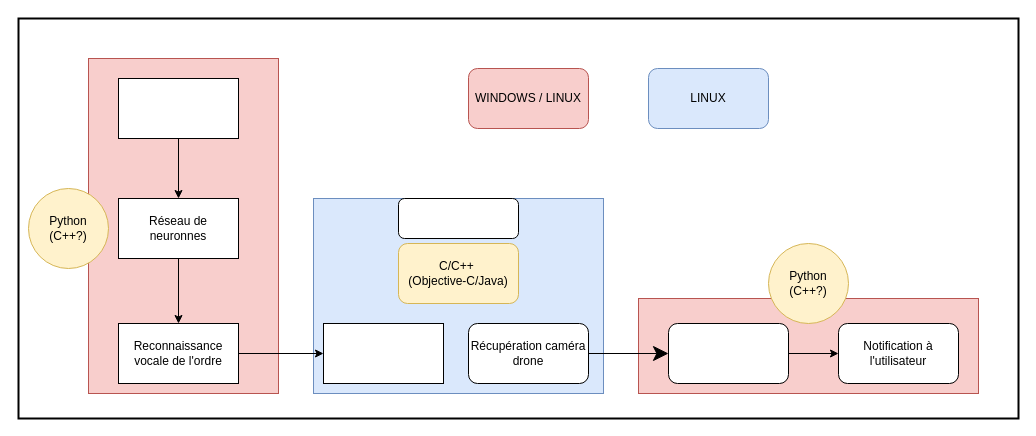
Some shapes in this 1036 by 436 pixel diagram are drawn without their labels. Here are the shapes that lost their labels. From the top down, the centre of each, then its label:
At pixel 178 108: "Récupération de la voix".
At pixel 458 218: "Drone".
At pixel 383 353: "Envoi ordre de vol adéquat au drone".
At pixel 728 353: "DNN pour réconnaisance d'objet".
